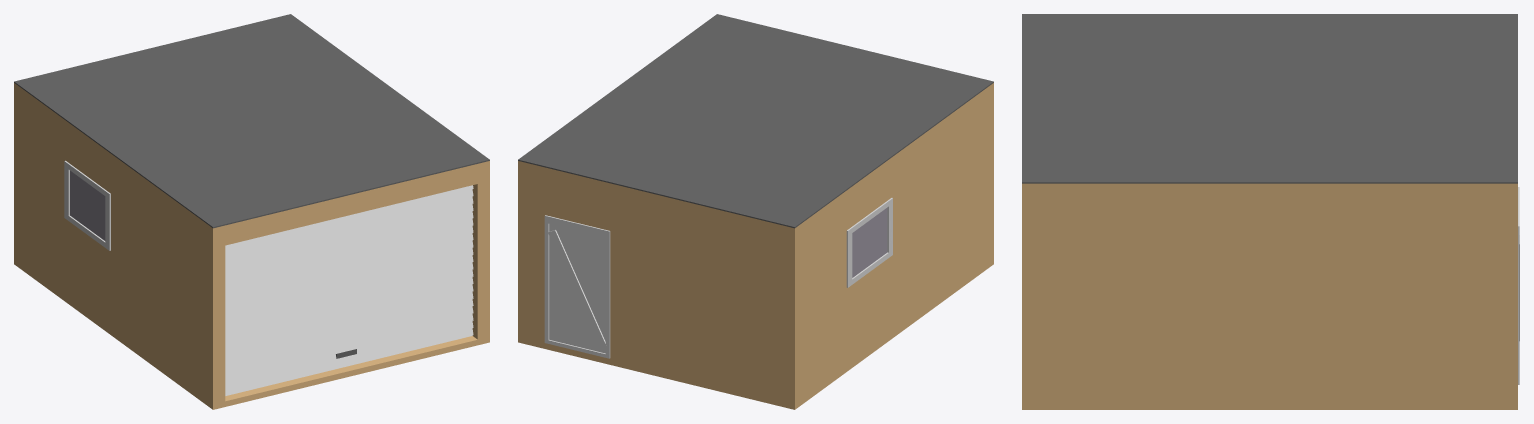
File: cartoon_garage.glb
The picture shows the model from 3 angles, left to right: view 1: azimuth 30°, elevation 25°; view 2: azimuth 150°, elevation 25°; view 3: azimuth 270°, elevation 25°; orthographic projection. The views are drawn at different scales.
Parts seen in each view (by area): view 1: Cube.015; view 2: Cube.015; view 3: Cube.015.
Boxes of the visible parts, <box> form: Cube.015: <box>14,14,489,409</box>; Cube.015: <box>518,14,993,409</box>; Cube.015: <box>1022,14,1519,409</box>.
Bounding box in the file's own units: 9.34 × 5.88 × 11.62.
